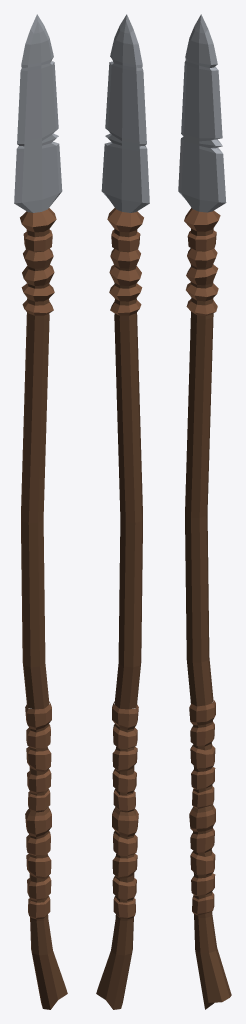
The model's file is Spear.glb.
3 renders of one model, left to right at view 1: azimuth 30°, elevation 25°; view 2: azimuth 150°, elevation 25°; view 3: azimuth 330°, elevation 25°, orthographic.
Parts seen in each view (by area): view 1: DarkWood, LightWood, Steel, LightSteel; view 2: DarkWood, LightWood, Steel, LightSteel; view 3: DarkWood, LightWood, Steel, LightSteel.
Boxes of the visible parts, bbox=[...] form: DarkWood: bbox=[21, 229, 67, 1009]; LightWood: bbox=[20, 208, 56, 919]; Steel: bbox=[21, 21, 59, 212]; LightSteel: bbox=[14, 14, 62, 212]; DarkWood: bbox=[96, 229, 142, 1009]; LightWood: bbox=[107, 208, 143, 919]; Steel: bbox=[104, 21, 142, 212]; LightSteel: bbox=[101, 14, 149, 212]; DarkWood: bbox=[185, 228, 231, 1009]; LightWood: bbox=[184, 208, 220, 915]; Steel: bbox=[181, 21, 218, 212]; LightSteel: bbox=[178, 14, 226, 212].
Size of the model in its own units: 0.5301 by 9.72 by 0.3249.
